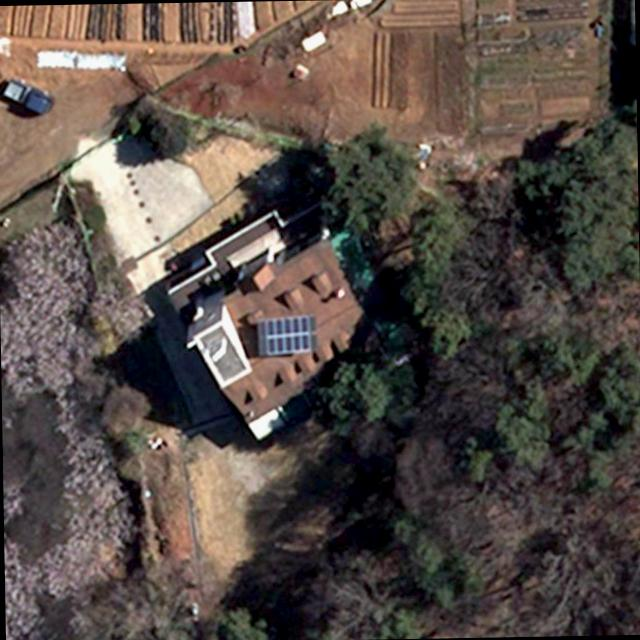solar: (257, 314, 320, 360)
